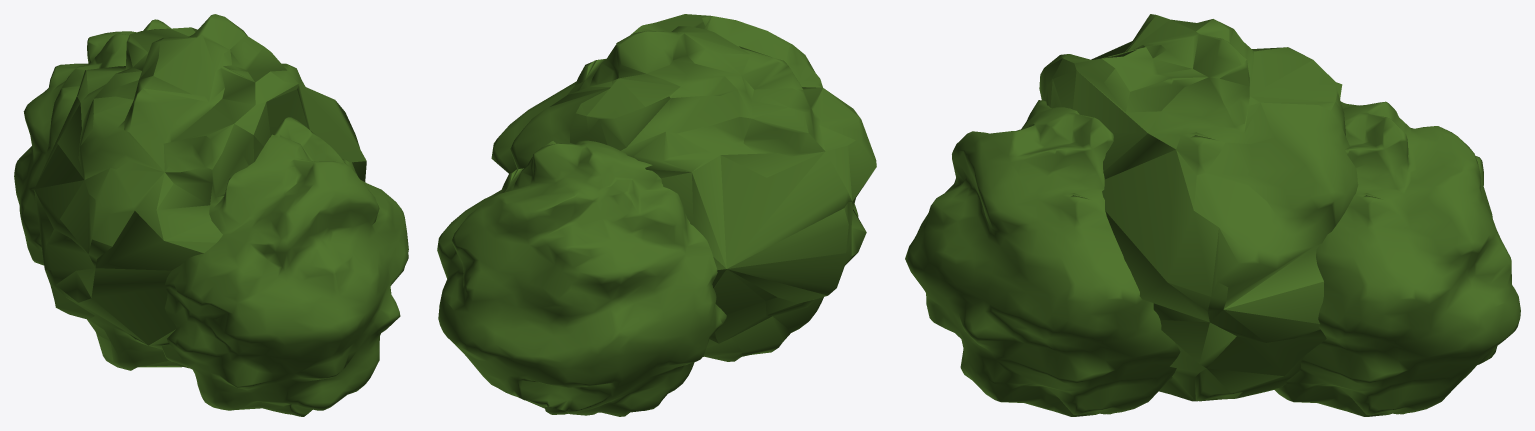
The model's file is bush_1.fbx.
3 renders of one model, left to right at view 1: azimuth 30°, elevation 25°; view 2: azimuth 150°, elevation 25°; view 3: azimuth 270°, elevation 25°, orthographic. The views are drawn at different scales.
Parts seen in each view (by area): view 1: tree_2_lowpoly:pCube23; view 2: tree_2_lowpoly:pCube23; view 3: tree_2_lowpoly:pCube23.
Part boxes in pixels (<box>): tree_2_lowpoly:pCube23: <box>14,14,408,416</box>; tree_2_lowpoly:pCube23: <box>437,14,876,416</box>; tree_2_lowpoly:pCube23: <box>905,14,1520,416</box>.
Bounding box in the file's own units: 141 × 139 × 208.
